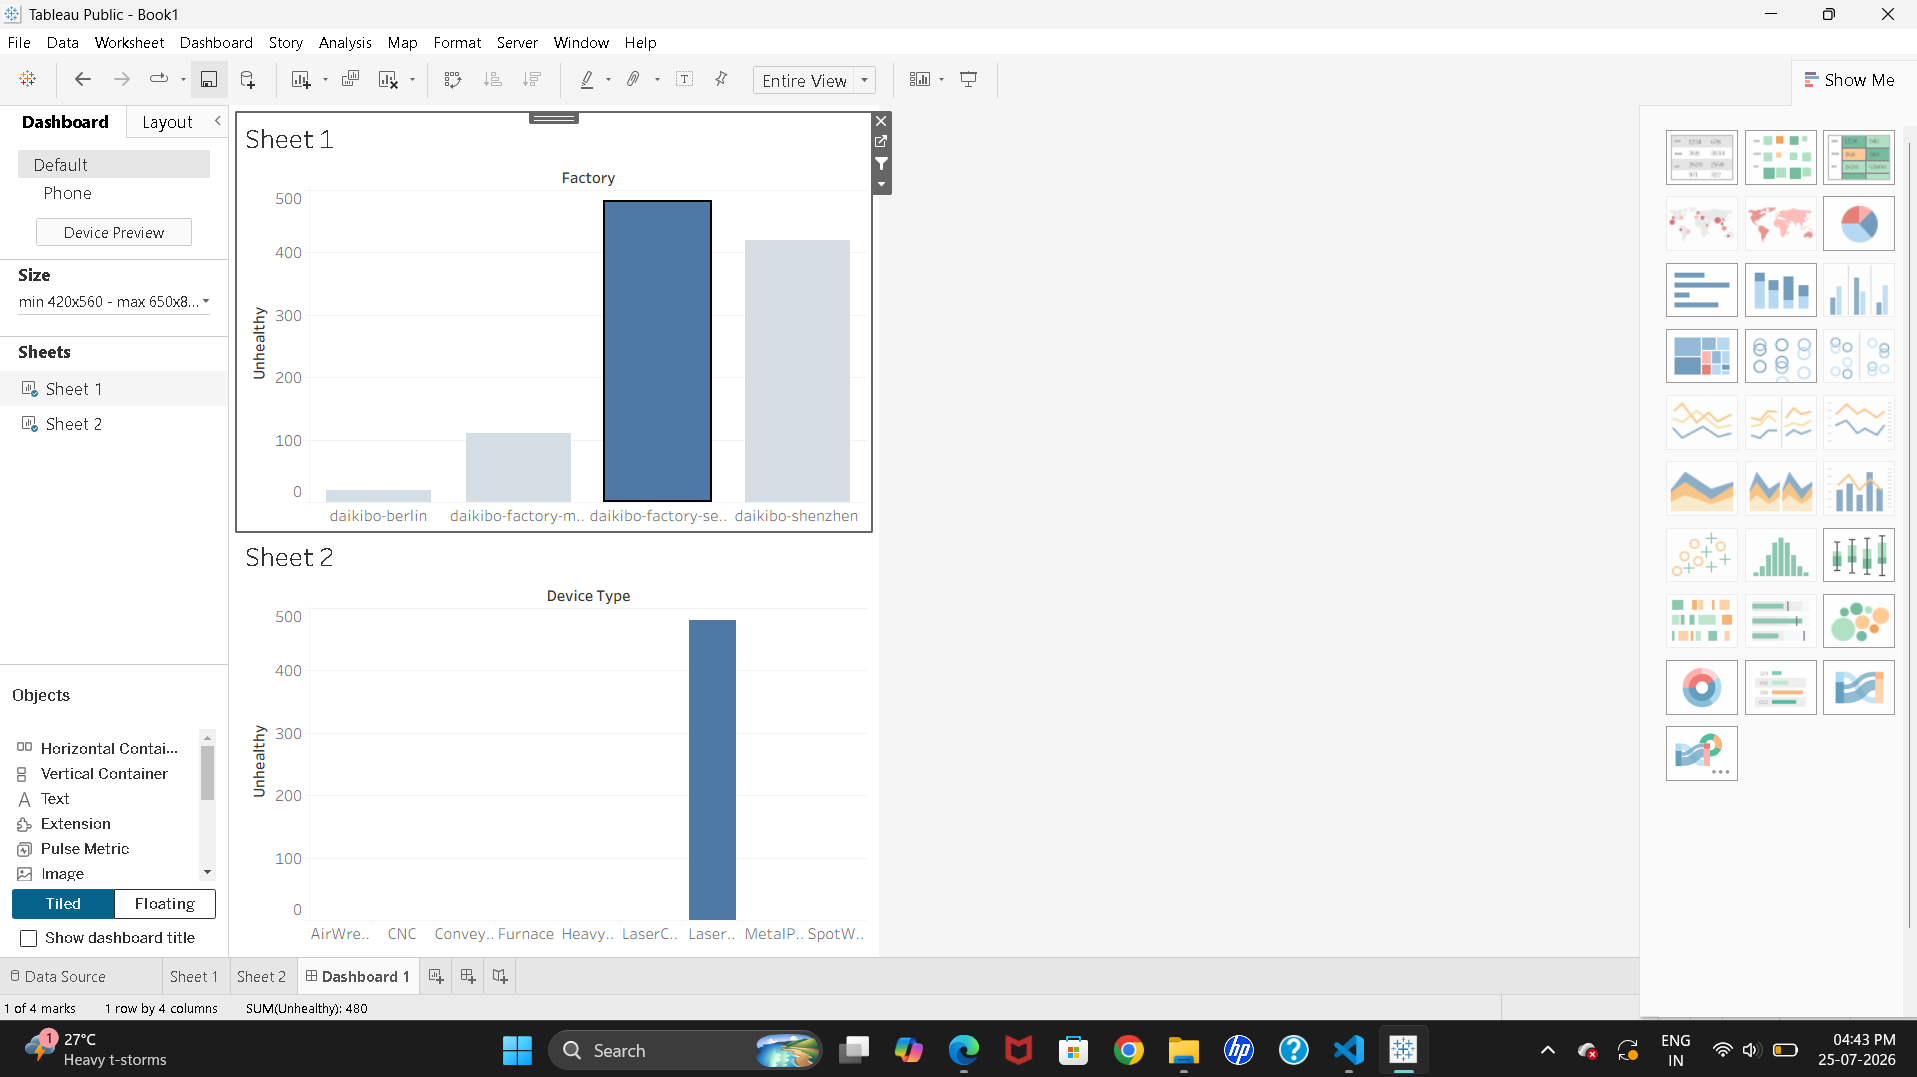

The dashboard page shown, as its layout file describes it:
{"tool":"tableau","page":{"name":"Dashboard 1","canvas":[650,860],"ordinal":0},"visuals":[{"type":"worksheet","title":"Sheet 1","mark":"Automatic","rows":["Calculation_1489040622575617"],"cols":["factory"],"box":[8,8.1,634,421.9]},{"type":"worksheet","title":"Sheet 2","mark":"Automatic","rows":["Calculation_1489040622575617"],"cols":["deviceType"],"box":[8,430,634,421.9]}]}

Visuals, with their boxes on the page's 650x860 design canvas (x1, y1, x2, y2). These are canvas units, not pixel positions in the 1917x1077 screenshot, which may show the page scaled, cropped or inside an application window:
"Sheet 1" worksheet: (8,8,642,430)
"Sheet 2" worksheet: (8,430,642,852)
